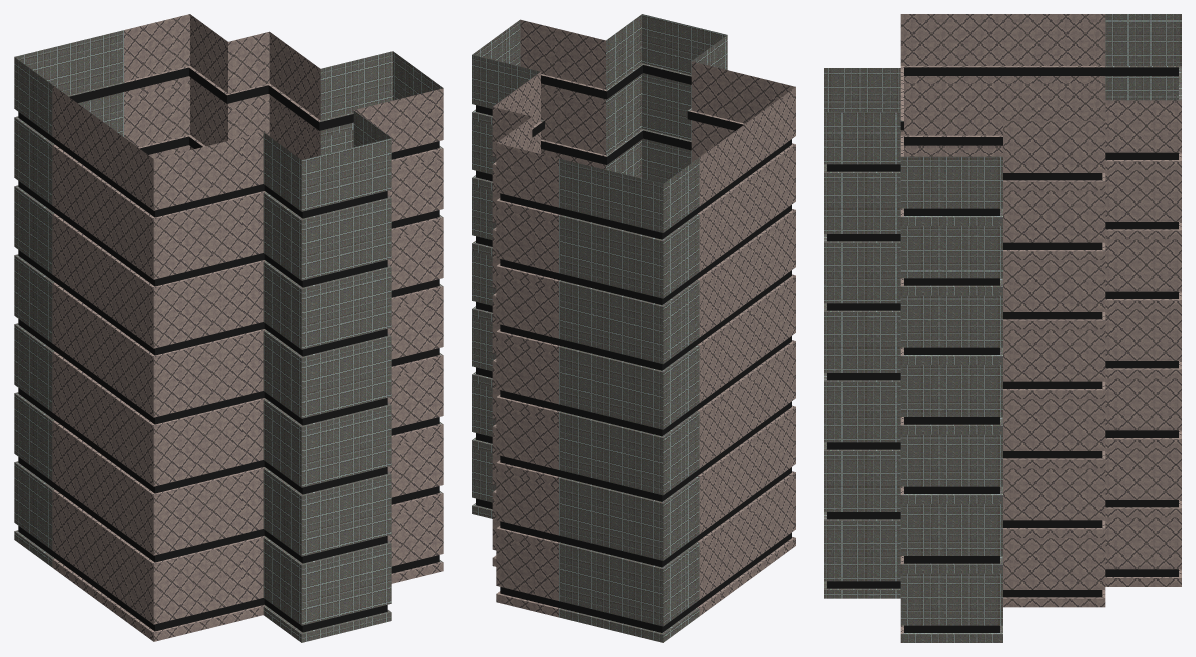
Rendered from Building.fbx.
3 renders of one model, left to right at view 1: azimuth 30°, elevation 25°; view 2: azimuth 150°, elevation 25°; view 3: azimuth 270°, elevation 25°, orthographic. The views are drawn at different scales.
Parts seen in each view (by area): view 1: Buildings6, Buildings5, Buildings, Buildings3, Buildings4, Buildings1, Buildings2; view 2: Buildings6, Buildings5, Buildings4, Buildings, Buildings1, Buildings2, Buildings3; view 3: Buildings6, Buildings5, Buildings4, Buildings2, Buildings1, Buildings, Buildings3.
Part boxes in pixels (<box>): Buildings6: <box>14,14,443,228</box>; Buildings5: <box>14,83,443,297</box>; Buildings: <box>14,471,443,642</box>; Buildings3: <box>14,333,443,504</box>; Buildings4: <box>14,195,443,366</box>; Buildings1: <box>14,402,443,573</box>; Buildings2: <box>14,264,443,435</box>; Buildings6: <box>472,14,795,249</box>; Buildings5: <box>472,79,795,314</box>; Buildings4: <box>472,145,795,380</box>; Buildings: <box>472,448,795,642</box>; Buildings1: <box>472,383,795,577</box>; Buildings2: <box>472,251,795,445</box>; Buildings3: <box>472,317,795,511</box>; Buildings6: <box>824,14,1181,225</box>; Buildings5: <box>824,83,1181,295</box>; Buildings4: <box>824,153,1181,364</box>; Buildings2: <box>824,309,1181,434</box>; Buildings1: <box>824,448,1181,573</box>; Buildings: <box>824,517,1181,642</box>; Buildings3: <box>824,378,1181,503</box>.
Size of the model in its own units: 1320 by 2100 by 1400.
